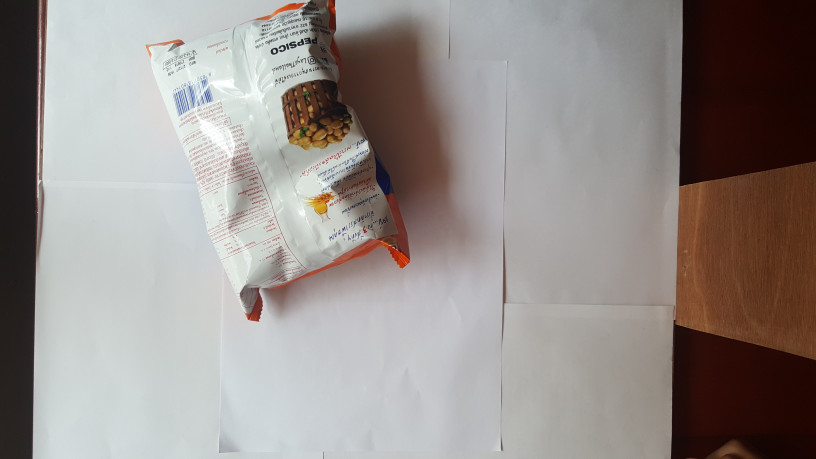lays-bbq: (135, 1, 413, 319)
